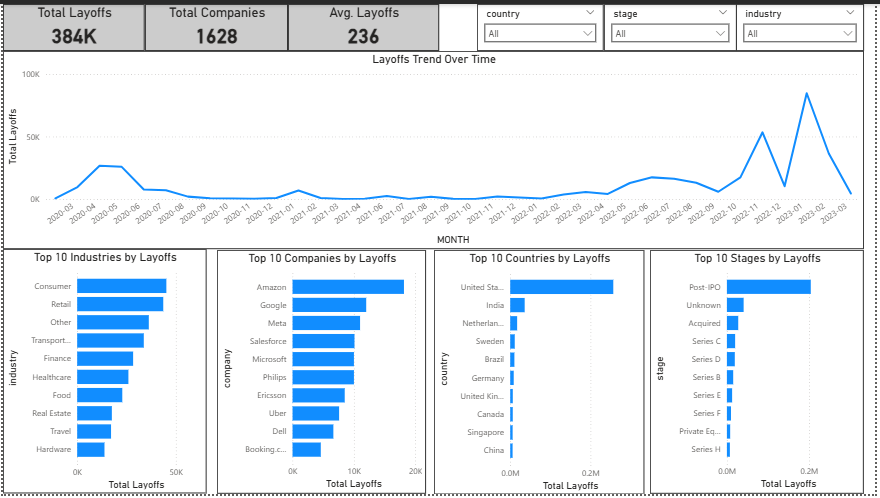

The dashboard page shown, as its layout file describes it:
{"tool":"powerbi","page":{"name":"Main Dashboard","canvas":[1280,720],"ordinal":0},"visuals":[{"type":"card","title":"Total Layoffs","fields":{"Values":["layoffs_data_analysis layoffs_cleaned.Total Layoffs"]},"box":[0,0,208.3,68.9],"z":0},{"type":"card","title":"Total Companies","fields":{"Values":["layoffs_data_analysis layoffs_cleaned.Total Companies"]},"box":[208.3,0,210,68.9],"z":1000},{"type":"card","title":"Avg. Layoffs","fields":{"Values":["layoffs_data_analysis layoffs_cleaned.Avg Layoffs Per Company"]},"box":[418.3,0,221.7,68.9],"z":2000},{"type":"slicer","fields":{"Values":["layoffs_data_analysis layoffs_cleaned.country"]},"box":[697.1,0,186.5,68.9],"z":3000},{"type":"slicer","fields":{"Values":["layoffs_data_analysis layoffs_cleaned.industry"]},"box":[1076.7,0,188.1,68.9],"z":4000},{"type":"slicer","fields":{"Values":["layoffs_data_analysis layoffs_cleaned.stage"]},"box":[883.6,0,194.9,68.9],"z":5000},{"type":"lineChart","title":"Layoffs Trend Over Time","fields":{"Category":["layoffs_data_analysis layoffs_cleaned.MONTH"],"Y":["layoffs_data_analysis layoffs_cleaned.Total Layoffs"]},"box":[0,68.9,1264.9,290.6],"z":6000},{"type":"clusteredBarChart","title":"Top 10 Industries by Layoffs","fields":{"Category":["layoffs_data_analysis layoffs_cleaned.industry"],"Y":["layoffs_data_analysis layoffs_cleaned.Total Layoffs"]},"box":[0,359.5,299,359.5],"z":7000},{"type":"clusteredBarChart","title":"Top 10 Countries by Layoffs","fields":{"Category":["layoffs_data_analysis layoffs_cleaned.country"],"Y":["layoffs_data_analysis layoffs_cleaned.Total Layoffs"]},"box":[633.3,361.2,309.1,359.5],"z":8000},{"type":"clusteredBarChart","title":"Top 10 Companies by Layoffs","fields":{"Category":["layoffs_data_analysis layoffs_cleaned.company"],"Y":["layoffs_data_analysis layoffs_cleaned.Total Layoffs"]},"box":[314.1,361.2,307.4,357.8],"z":9000},{"type":"clusteredBarChart","title":"Top 10 Stages by Layoffs","fields":{"Category":["layoffs_data_analysis layoffs_cleaned.stage"],"Y":["layoffs_data_analysis layoffs_cleaned.Total Layoffs"]},"box":[950.8,361.2,314.1,357.8],"z":10000}]}

Visuals, with their boxes in screenshot pixels (x1, y1, x2, y2), scaled from the page's 1280x720 canvas onto the 880x498 screenshot:
"Total Layoffs" card: {"x1": 0, "y1": 0, "x2": 143, "y2": 48}
"Total Companies" card: {"x1": 143, "y1": 0, "x2": 288, "y2": 48}
"Avg. Layoffs" card: {"x1": 288, "y1": 0, "x2": 440, "y2": 48}
slicer - layoffs_data_analysis layoffs_cleaned.country: {"x1": 479, "y1": 0, "x2": 607, "y2": 48}
slicer - layoffs_data_analysis layoffs_cleaned.industry: {"x1": 740, "y1": 0, "x2": 870, "y2": 48}
slicer - layoffs_data_analysis layoffs_cleaned.stage: {"x1": 607, "y1": 0, "x2": 741, "y2": 48}
"Layoffs Trend Over Time" lineChart: {"x1": 0, "y1": 48, "x2": 870, "y2": 249}
"Top 10 Industries by Layoffs" clusteredBarChart: {"x1": 0, "y1": 249, "x2": 206, "y2": 497}
"Top 10 Countries by Layoffs" clusteredBarChart: {"x1": 435, "y1": 250, "x2": 648, "y2": 497}
"Top 10 Companies by Layoffs" clusteredBarChart: {"x1": 216, "y1": 250, "x2": 427, "y2": 497}
"Top 10 Stages by Layoffs" clusteredBarChart: {"x1": 654, "y1": 250, "x2": 870, "y2": 497}
